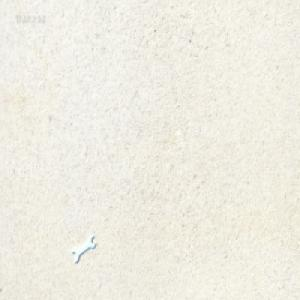Wrench: (72, 235, 96, 264)
